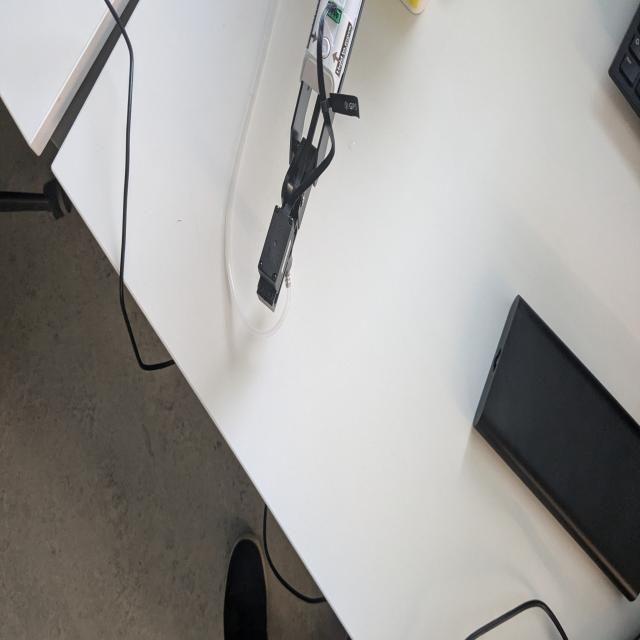Robot-end-effector-HF8z: (256, 202, 300, 314)
